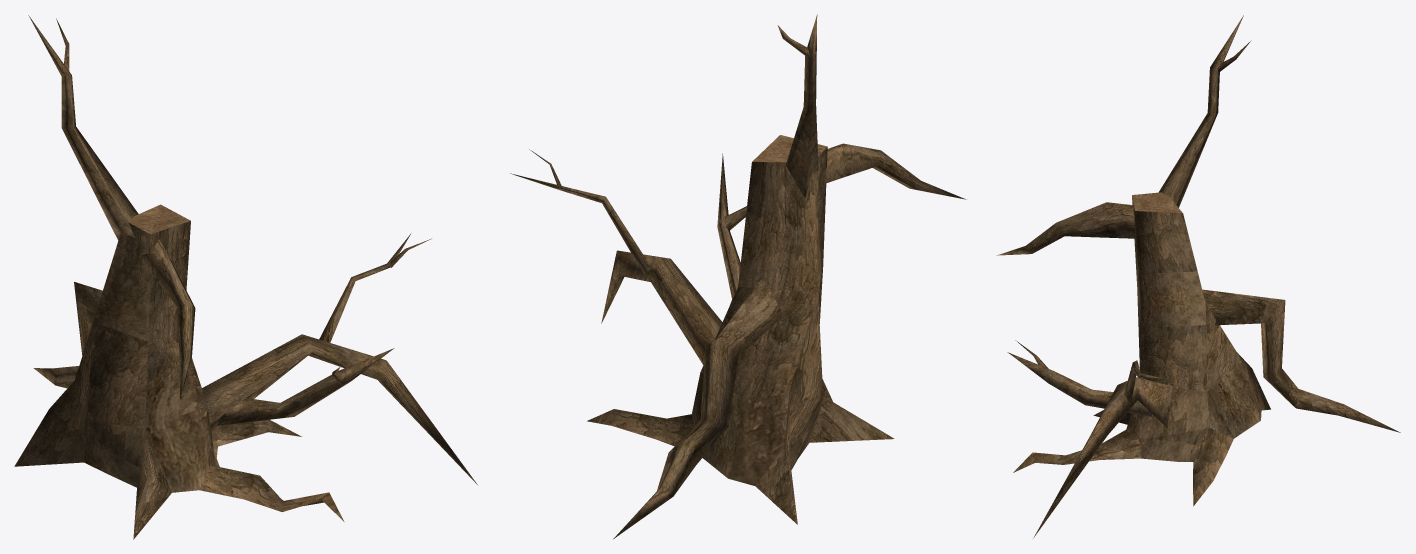
The model's file is Gobi_Tree02.FBX.
3 renders of one model, left to right at view 1: azimuth 30°, elevation 25°; view 2: azimuth 150°, elevation 25°; view 3: azimuth 270°, elevation 25°, orthographic. The views are drawn at different scales.
Parts seen in each view (by area): view 1: Gobi_Tree02; view 2: Gobi_Tree02; view 3: Gobi_Tree02.
Boxes of the visible parts, x1,y1,x2,y2 form: Gobi_Tree02: (14,15,477,539); Gobi_Tree02: (510,14,965,539); Gobi_Tree02: (997,15,1400,538).
Size of the model in its own units: 866 by 1138 by 1059.
